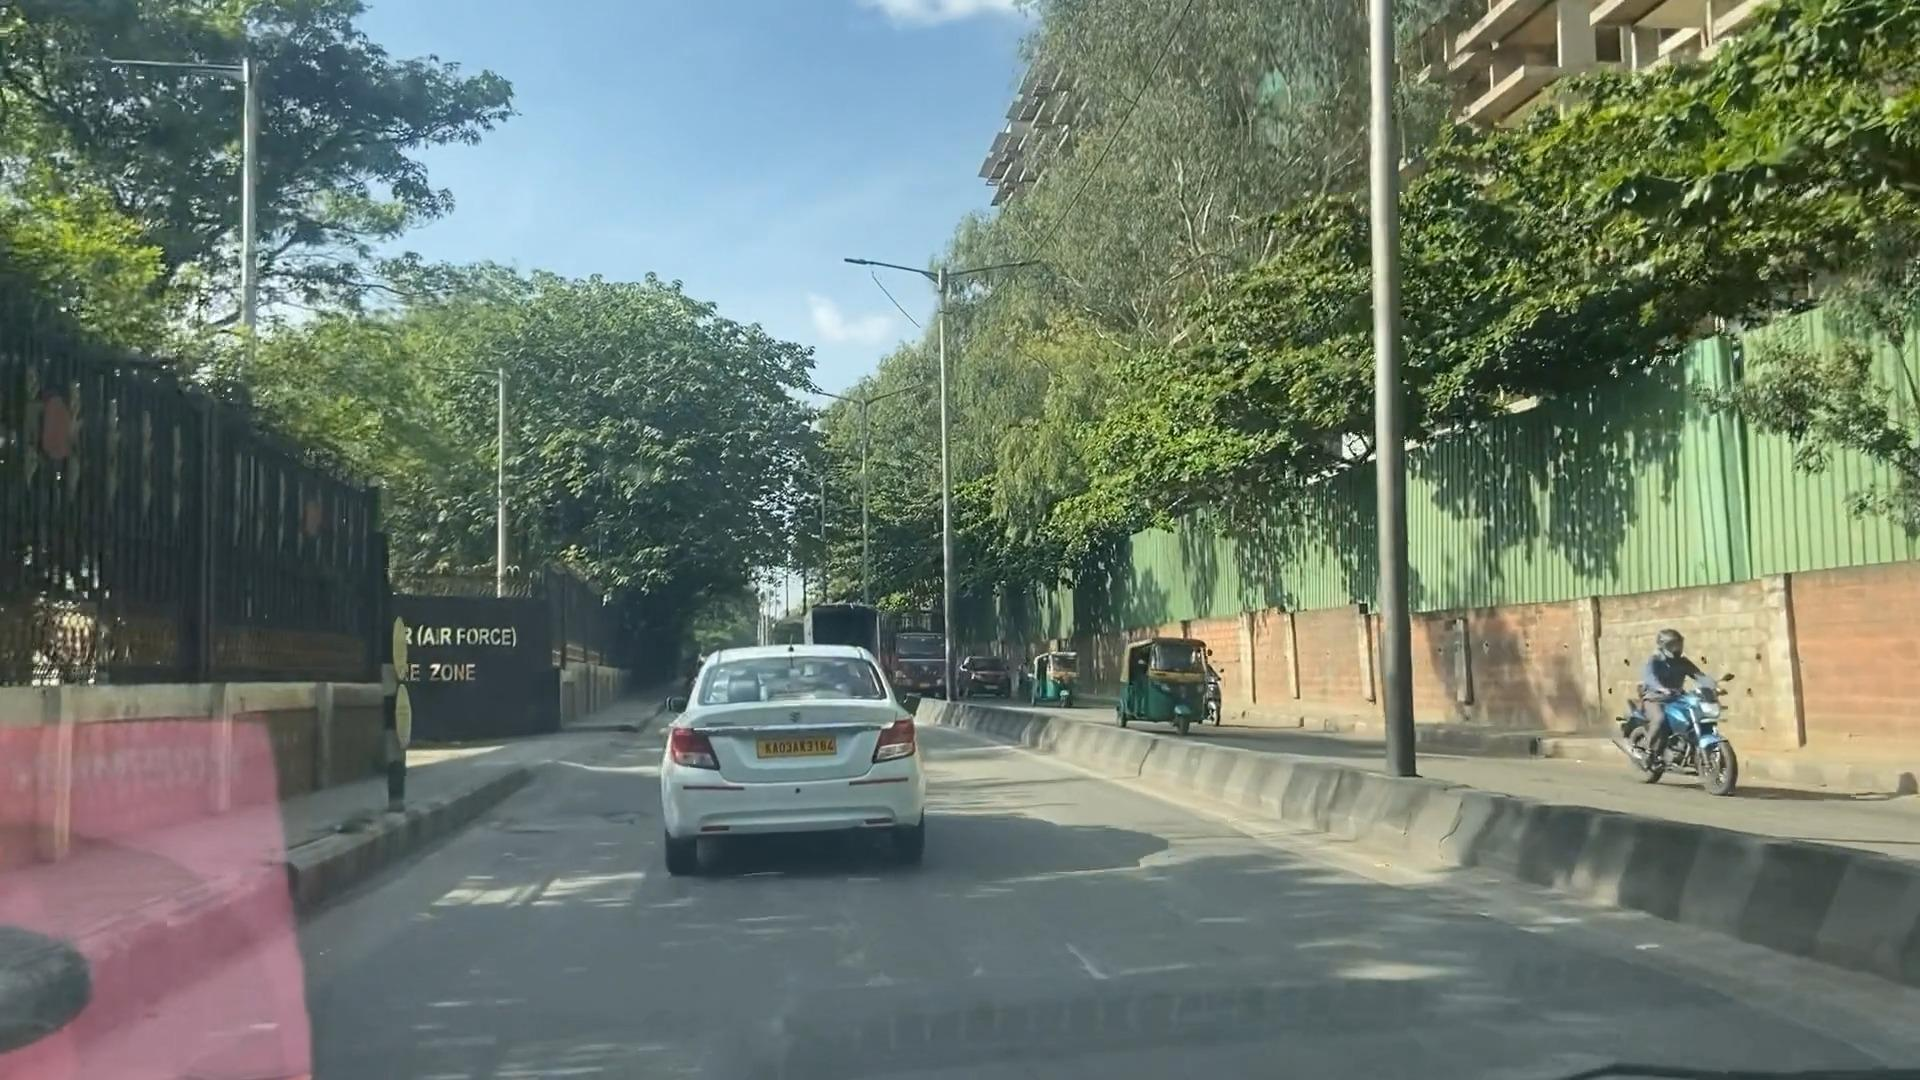RoadDamages: (472, 779, 641, 856)
